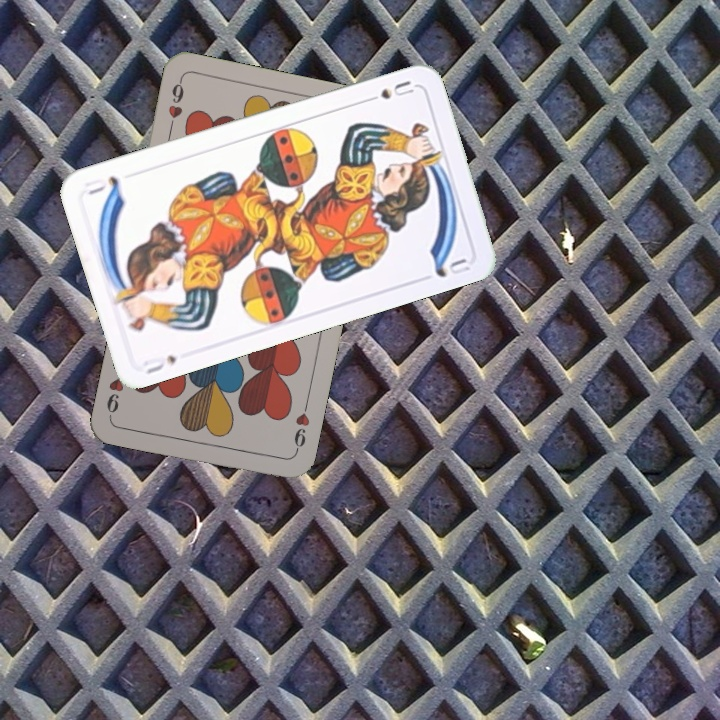H9: (289, 398, 313, 457), (164, 75, 187, 134)
SU: (360, 76, 417, 106), (139, 350, 180, 378)
